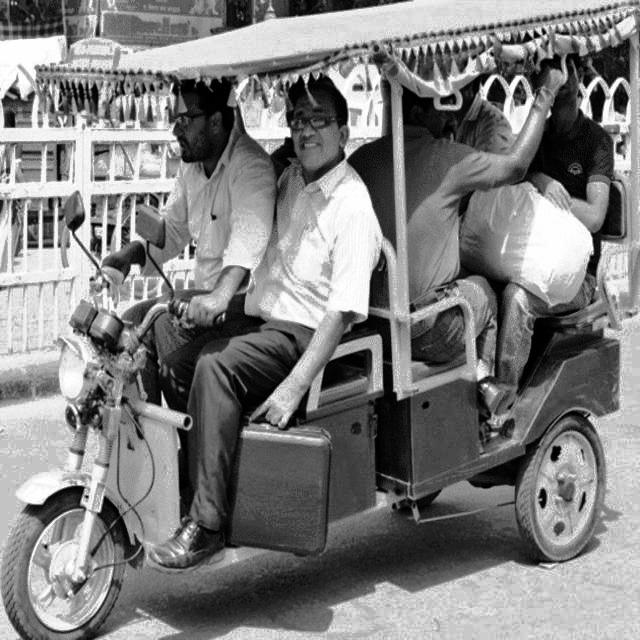Toto: (24, 18, 640, 640)
